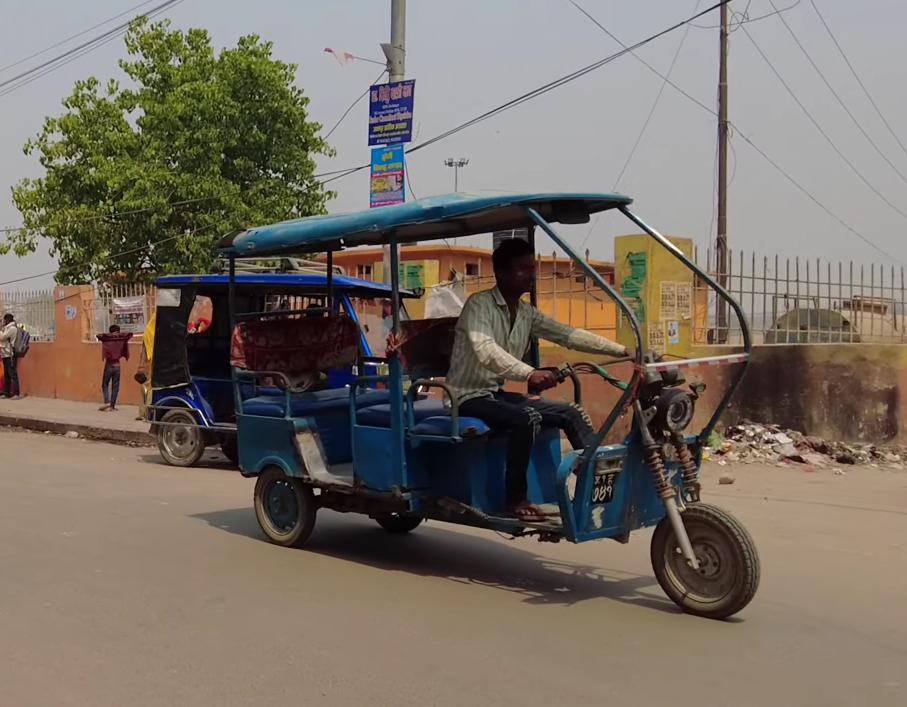e-rickshaw: (210, 170, 770, 625), (139, 265, 410, 476)
